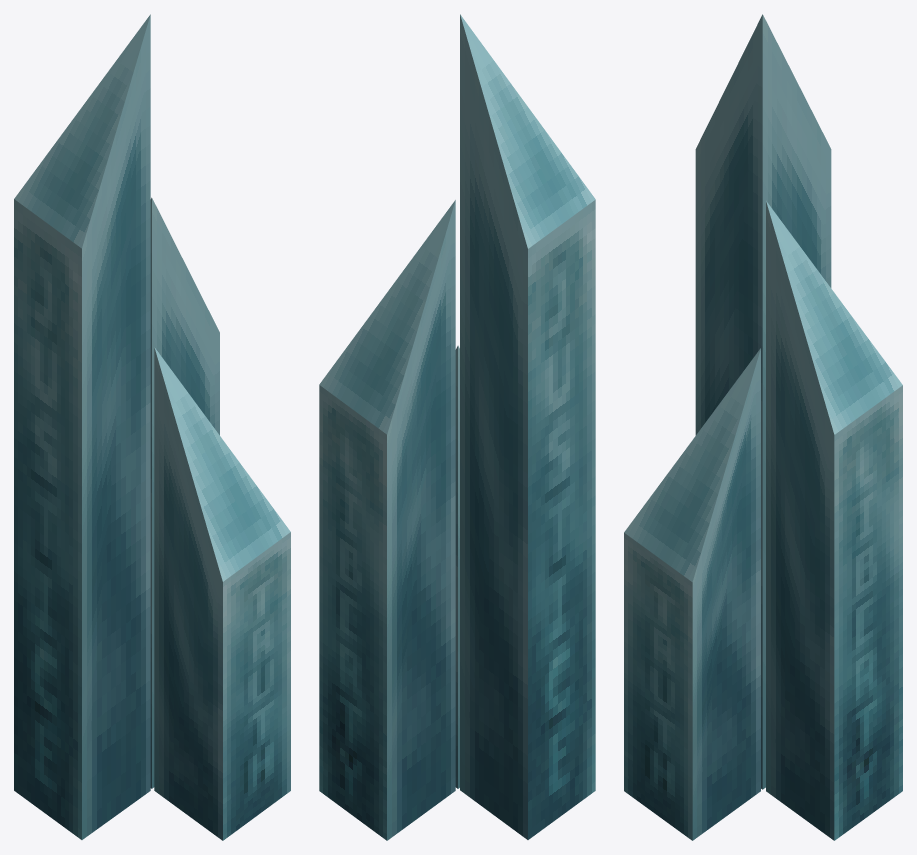
The picture shows the model from 3 angles, left to right: view 1: azimuth 30°, elevation 25°; view 2: azimuth 150°, elevation 25°; view 3: azimuth 270°, elevation 25°; orthographic projection.
Parts seen in each view (by area): view 1: prim047-news statue; view 2: prim047-news statue; view 3: prim047-news statue.
Boxes of the visible parts, bbox=[...] form: prim047-news statue: bbox=[14, 14, 290, 840]; prim047-news statue: bbox=[319, 14, 595, 840]; prim047-news statue: bbox=[624, 14, 902, 840].
Size of the model in its own units: 150 by 537 by 175.
1 material, 1 textured.
